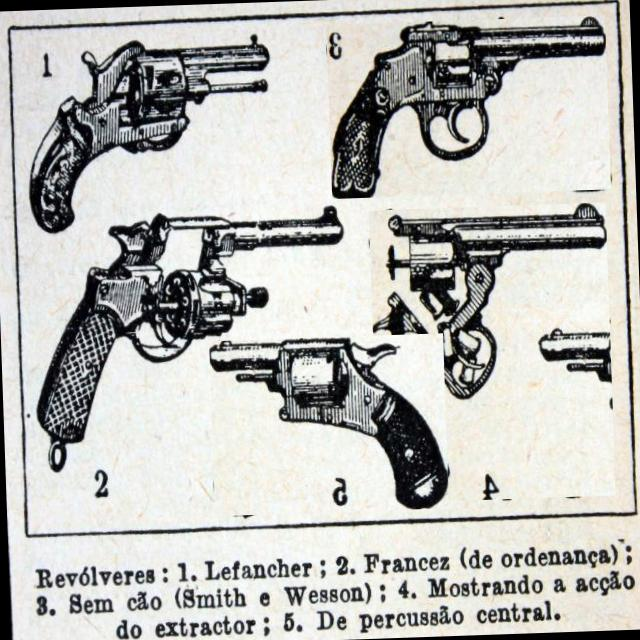Gun: (38, 207, 342, 470), (373, 204, 606, 502), (332, 17, 605, 198), (29, 37, 268, 231), (209, 339, 448, 509)
